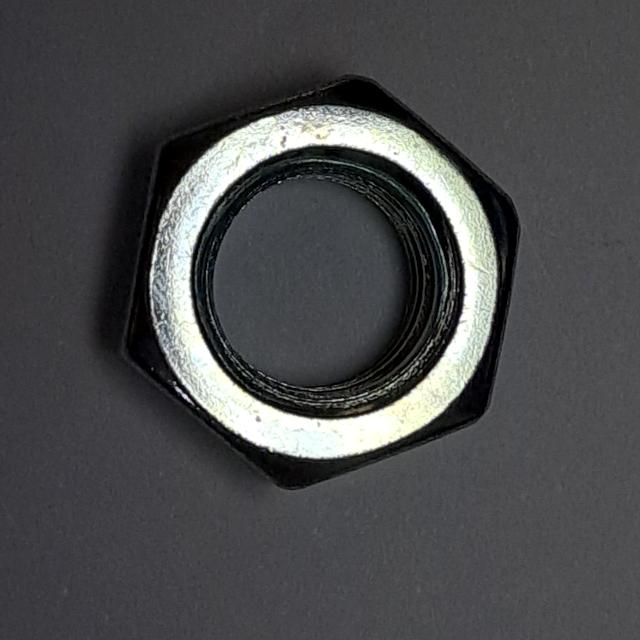Excellent: (102, 57, 533, 503)
